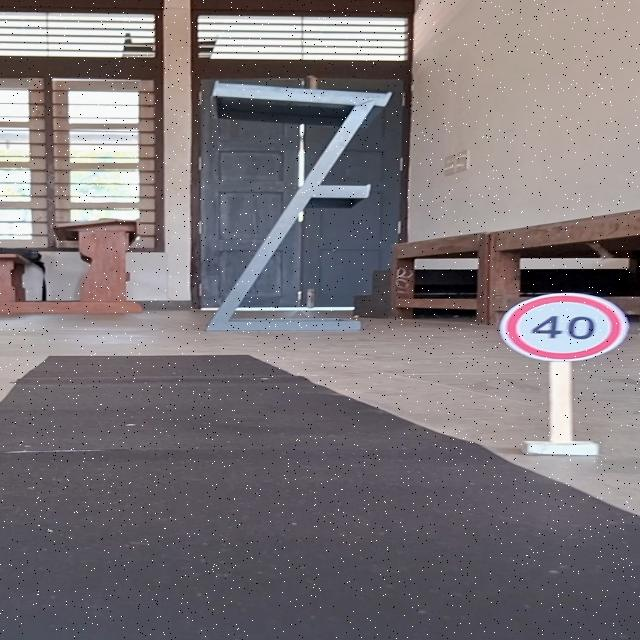Speed40: (493, 290, 635, 365)
